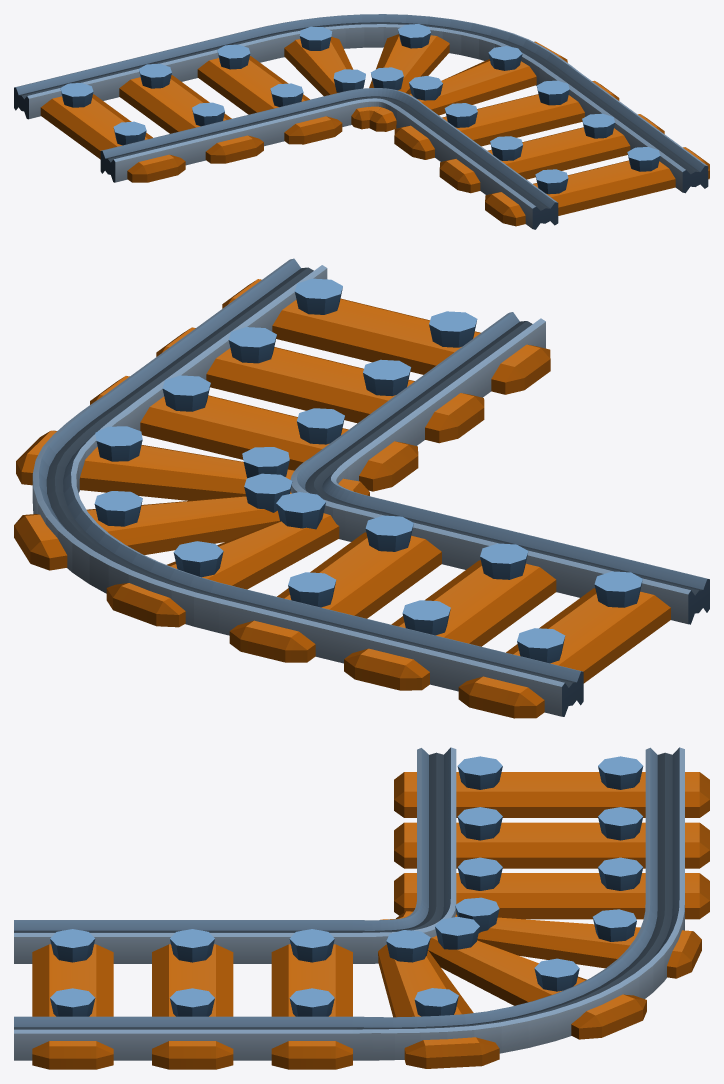
The model's file is 2Br-SolRay.fbx.
The picture shows the model from 3 angles, top to bottom: view 1: azimuth 30°, elevation 25°; view 2: azimuth 150°, elevation 25°; view 3: azimuth 270°, elevation 25°; orthographic projection. The views are drawn at different scales.
Visible parts, largest first — view 1: 2Br-SolRay; view 2: 2Br-SolRay; view 3: 2Br-SolRay.
Boxes of the visible parts, bbox=[...] form: 2Br-SolRay: bbox=[14, 14, 709, 229]; 2Br-SolRay: bbox=[14, 258, 709, 718]; 2Br-SolRay: bbox=[14, 747, 709, 1069].
Size of the model in its own units: 388 by 25.32 by 388.
